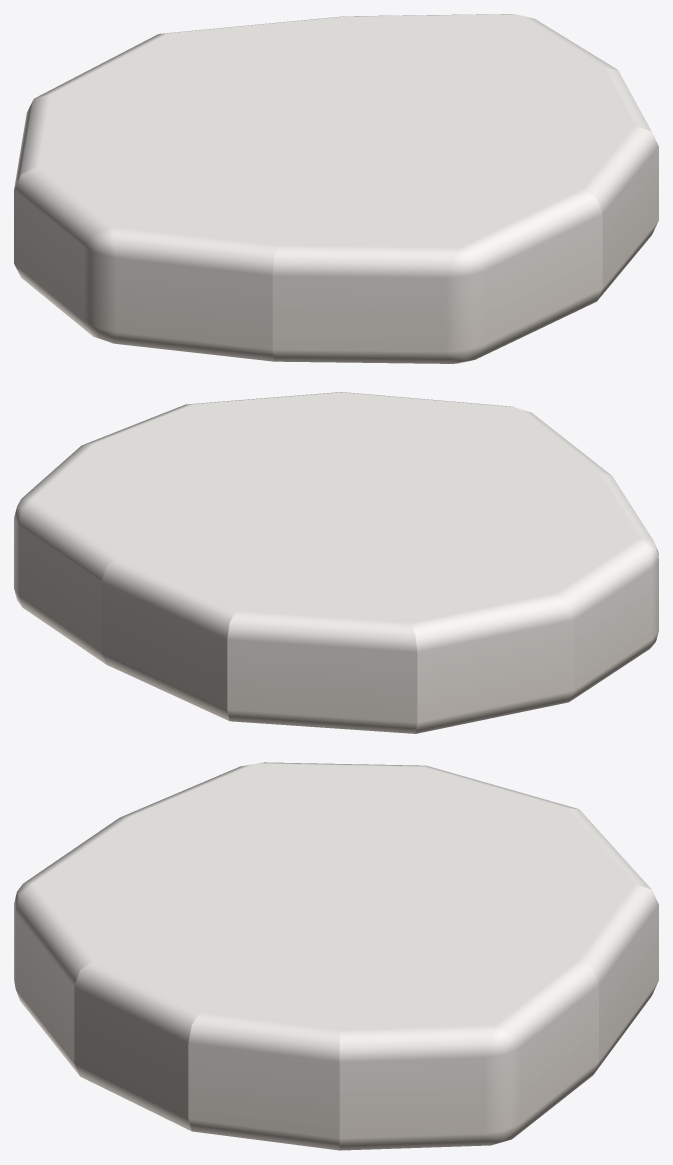
File: grove_stepping_stone.glb
3 views of the same model, one above another, from view 1: azimuth 30°, elevation 25°; view 2: azimuth 150°, elevation 25°; view 3: azimuth 270°, elevation 25° (orthographic). The views are drawn at different scales.
Visible parts, largest first — view 1: grove_stepping_stone; view 2: grove_stepping_stone; view 3: grove_stepping_stone.
Part boxes in pixels (<box>): grove_stepping_stone: <box>14,14,658,363</box>; grove_stepping_stone: <box>14,392,658,733</box>; grove_stepping_stone: <box>14,762,658,1150</box>.
Bounding box in the file's own units: 1.14 × 0.22 × 1.08.
1 material, 1 textured.
